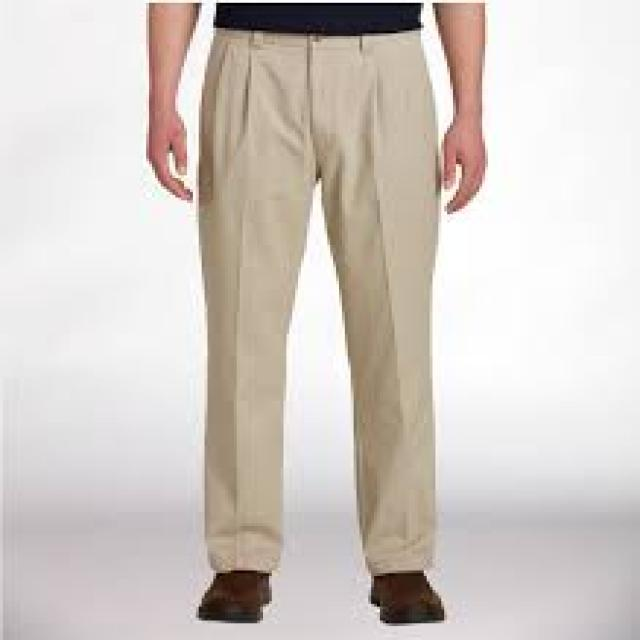pants: (195, 21, 448, 569)
